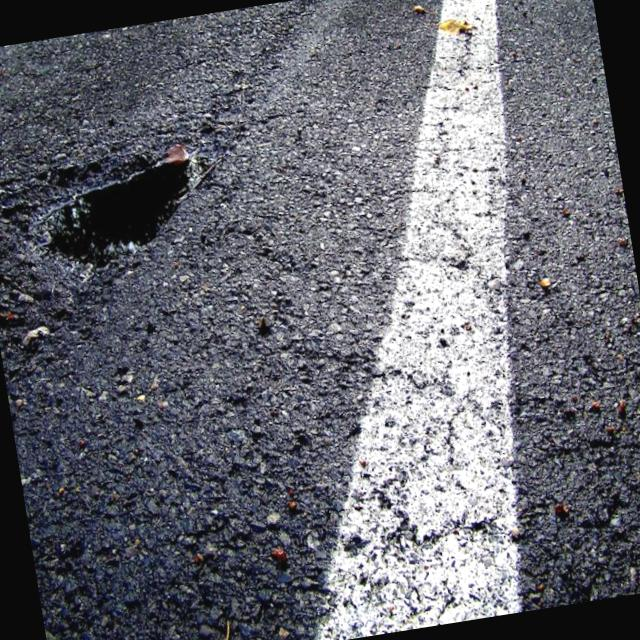bad-road: (34, 150, 212, 278)
